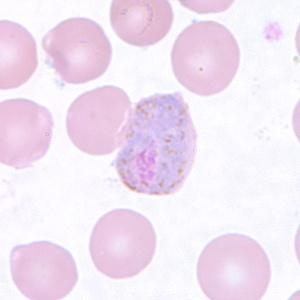Infected: (112, 91, 196, 196)
Uninfected: (170, 22, 239, 96), (197, 232, 272, 300), (66, 84, 135, 157), (41, 18, 113, 85), (89, 209, 155, 280), (11, 240, 77, 300), (0, 97, 53, 167), (109, 0, 175, 47), (0, 18, 39, 91)
